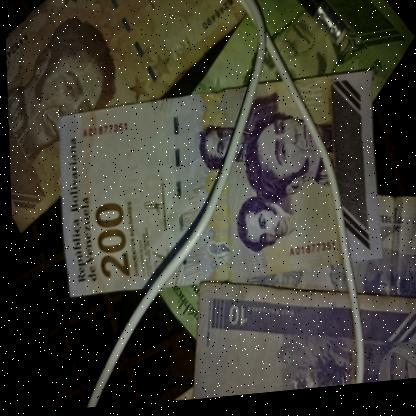fifty-front-vef: (121, 0, 416, 350)
five-front-vef: (0, 0, 278, 237)
ten-back-vef: (183, 267, 416, 403), (205, 184, 416, 331)
two_hundred-front-vef: (50, 69, 386, 304)
